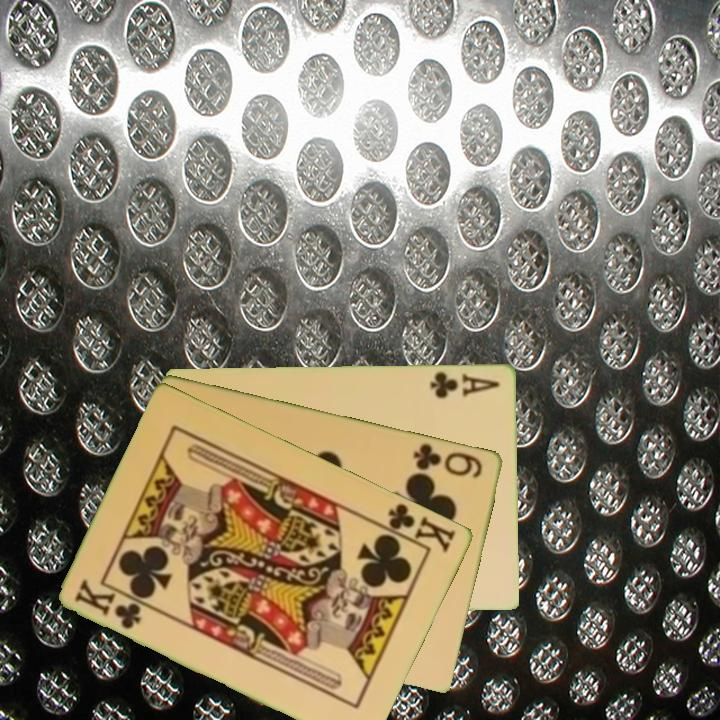6c: (410, 439, 486, 481)
Ac: (427, 368, 503, 401)
Kc: (376, 499, 459, 555), (71, 576, 145, 632)
